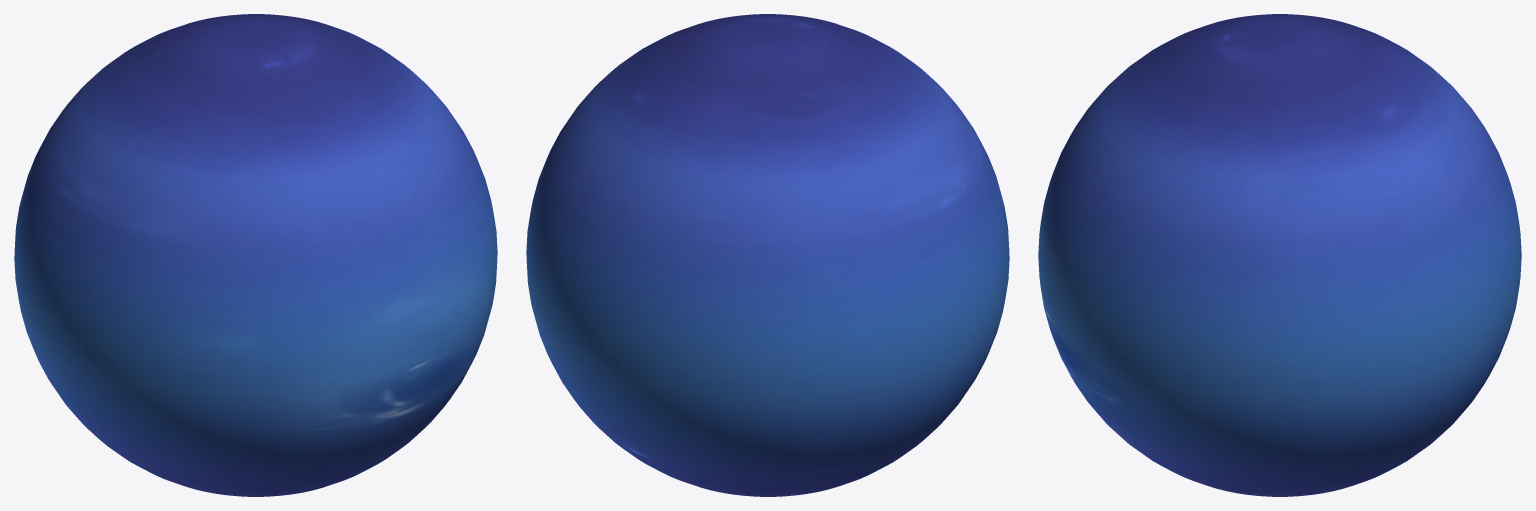
The model's file is neptune.obj.
3 views of the same model, side by side, from view 1: azimuth 30°, elevation 25°; view 2: azimuth 150°, elevation 25°; view 3: azimuth 270°, elevation 25° (orthographic).
Visible parts, largest first — view 1: Sphere002; view 2: Sphere002; view 3: Sphere002.
Part boxes in pixels (x1,y1,x2,y2): Sphere002: [14, 14, 497, 496]; Sphere002: [526, 14, 1009, 496]; Sphere002: [1038, 14, 1521, 496].
Bounding box in the file's own units: 702 × 702 × 702.
2 materials, 2 textured.
